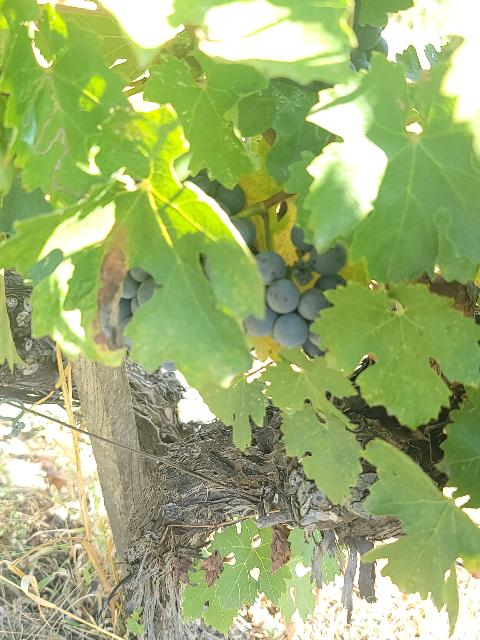grapes: (244, 228, 348, 358), (190, 169, 256, 246)
